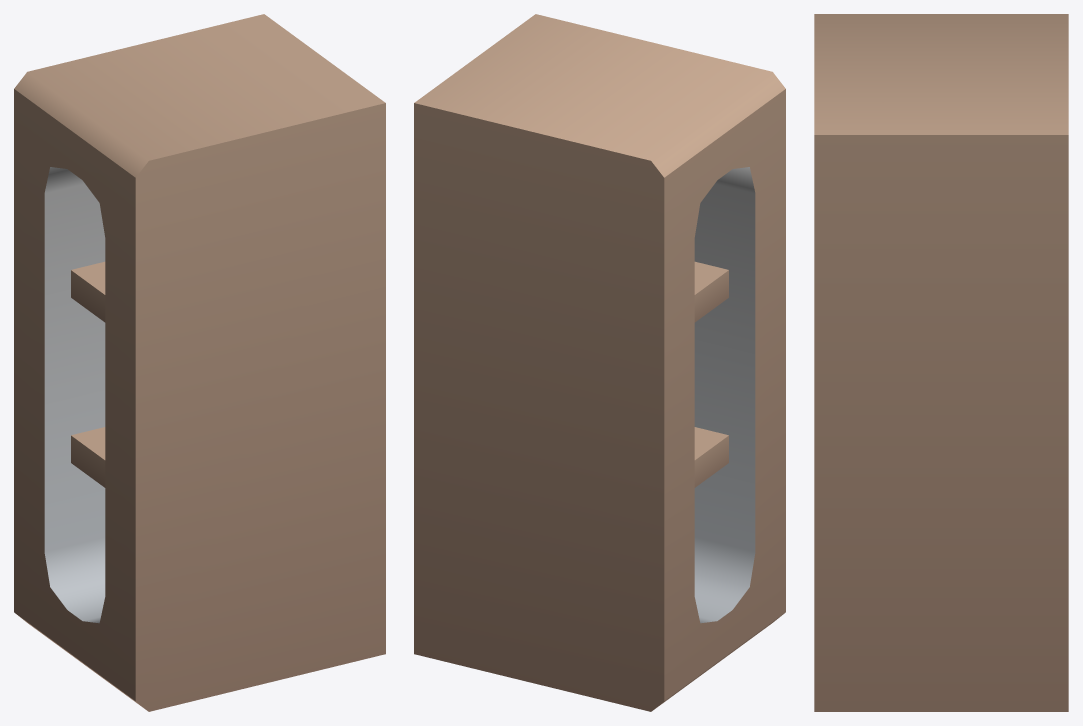
Rendered from cabinet-basic-upper-open-narrower (%wall).glb.
3 renders of one model, left to right at view 1: azimuth 30°, elevation 25°; view 2: azimuth 150°, elevation 25°; view 3: azimuth 270°, elevation 25°, orthographic. The views are drawn at different scales.
Parts seen in each view (by area): view 1: cabinet-basic-upper-open-narrower (%wall); view 2: cabinet-basic-upper-open-narrower (%wall); view 3: cabinet-basic-upper-open-narrower (%wall).
Part boxes in pixels (left/top/right/bottom): cabinet-basic-upper-open-narrower (%wall): left=14, top=14, right=385, bottom=711; cabinet-basic-upper-open-narrower (%wall): left=414, top=14, right=785, bottom=711; cabinet-basic-upper-open-narrower (%wall): left=814, top=14, right=1068, bottom=711.
Size of the model in its own units: 0.2375 by 0.5 by 0.2.
